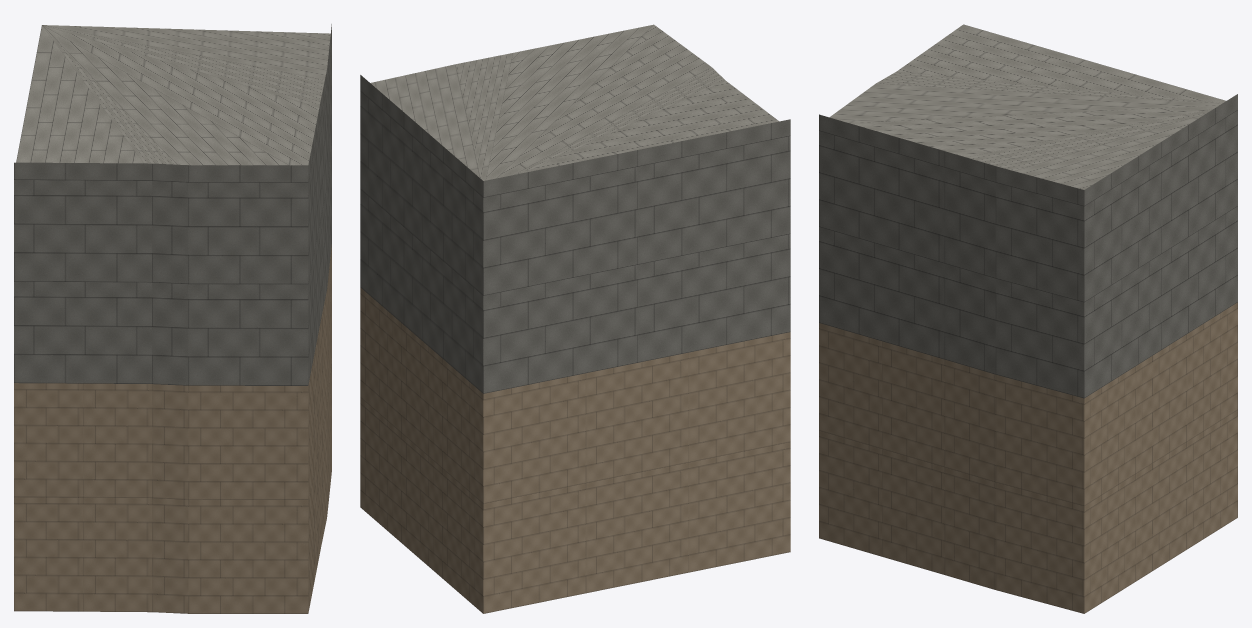
The model's file is bld_c-20_16_523.gltf.
The picture shows the model from 3 angles, left to right: view 1: azimuth 30°, elevation 25°; view 2: azimuth 150°, elevation 25°; view 3: azimuth 270°, elevation 25°; orthographic projection. The views are drawn at different scales.
Visible parts, largest first — view 1: bld_c-20_16_523; view 2: bld_c-20_16_523; view 3: bld_c-20_16_523.
Boxes of the visible parts, x1,y1,x2,y2 form: bld_c-20_16_523: (14,24,331,613); bld_c-20_16_523: (360,24,790,613); bld_c-20_16_523: (819,24,1237,613).
Size of the model in its own units: 8.71 by 9.78 by 8.76.
4 materials, 4 textured.
